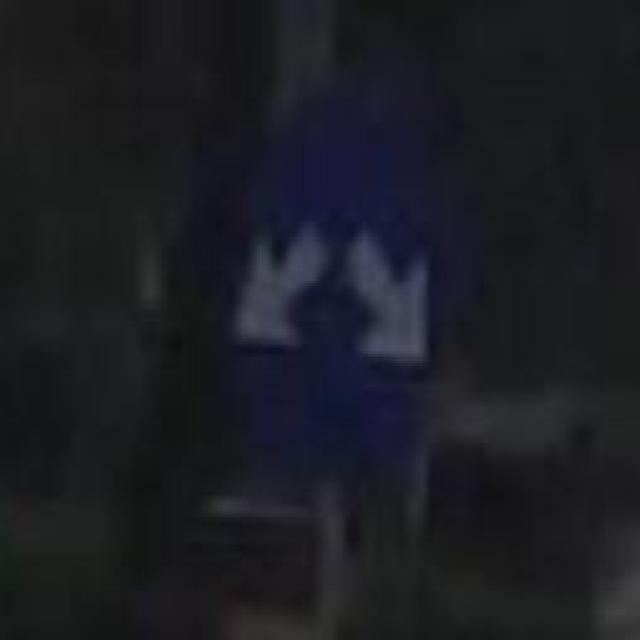traffic sign: (219, 139, 451, 484)
